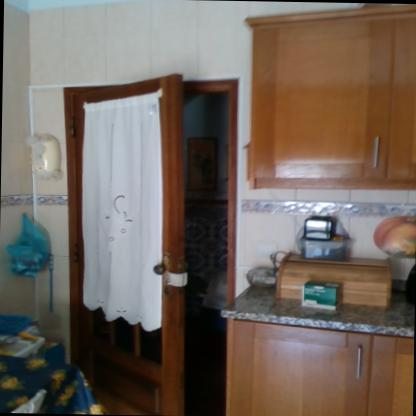closed: (246, 2, 414, 192)
semi: (58, 72, 252, 408)
